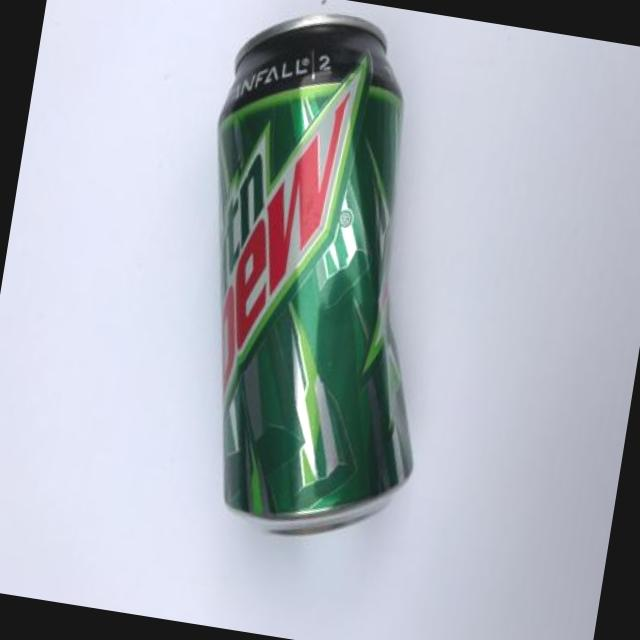kim_loai: (216, 13, 415, 540)
